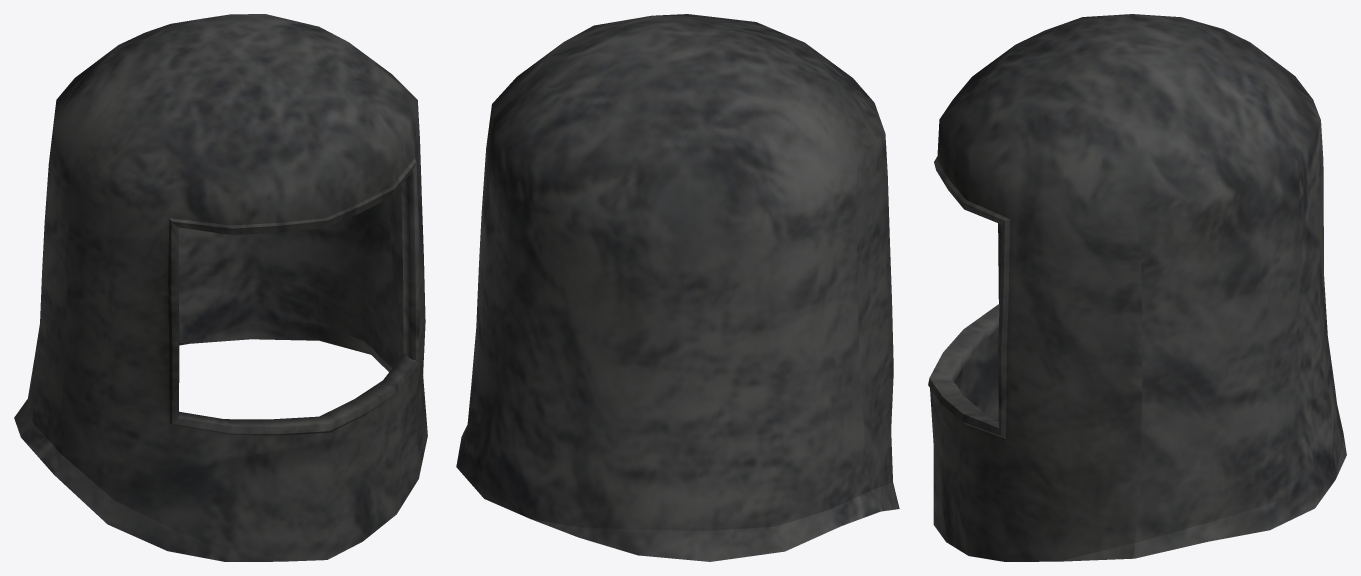
Rendered from LavaHelmet.obj.
The picture shows the model from 3 angles, left to right: view 1: azimuth 30°, elevation 25°; view 2: azimuth 150°, elevation 25°; view 3: azimuth 270°, elevation 25°; orthographic projection. The views are drawn at different scales.
Size of the model in its own units: 26.5 by 32.21 by 25.18.
Materials: 1 (1 with a texture image).
